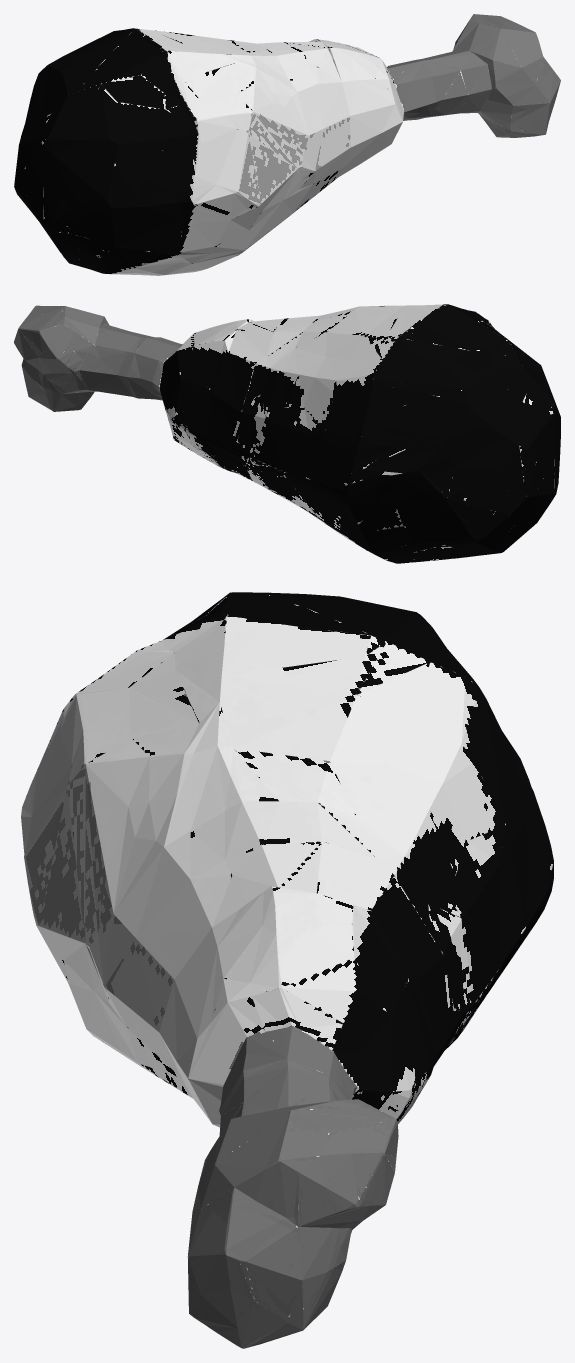
The picture shows the model from 3 angles, top to bottom: view 1: azimuth 30°, elevation 25°; view 2: azimuth 150°, elevation 25°; view 3: azimuth 270°, elevation 25°; orthographic projection. The views are drawn at different scales.
Parts seen in each view (by area): view 1: OBJ0b0; view 2: OBJ0b0; view 3: OBJ0b0.
Boxes of the visible parts, left/top/right/bottom form: OBJ0b0: left=14, top=14, right=560, bottom=275; OBJ0b0: left=14, top=304, right=560, bottom=563; OBJ0b0: left=21, top=592, right=553, bottom=1348.
Size of the model in its own units: 0.2834 by 0.1223 by 0.1279.
1 material, 1 textured.
